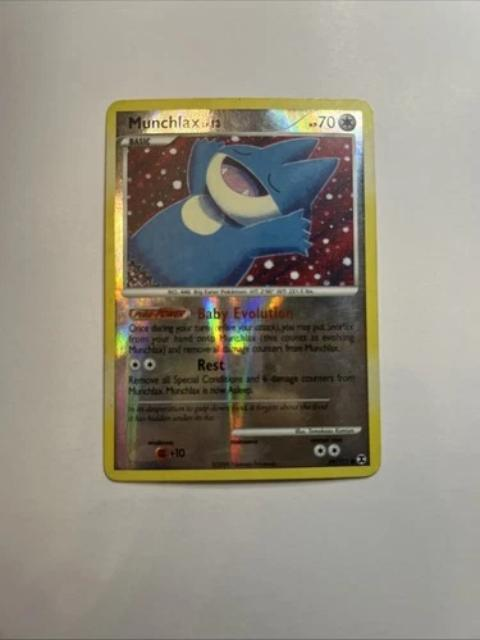Card: (97, 90, 385, 487)
Name: (123, 108, 203, 133)
